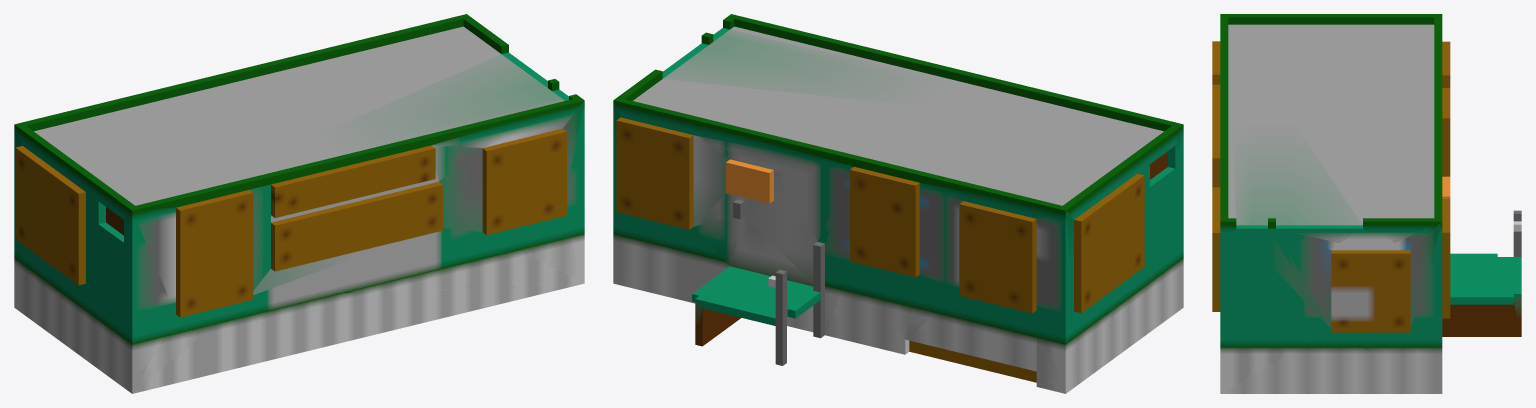
Rendered from obj_house6d.fbx.
3 renders of one model, left to right at view 1: azimuth 30°, elevation 25°; view 2: azimuth 150°, elevation 25°; view 3: azimuth 270°, elevation 25°, orthographic. The views are drawn at different scales.
Parts seen in each view (by area): view 1: obj_house6d; view 2: obj_house6d; view 3: obj_house6d.
Boxes of the visible parts, left/top/right/bottom form: obj_house6d: left=14, top=14, right=584, bottom=393; obj_house6d: left=613, top=14, right=1183, bottom=393; obj_house6d: left=1212, top=14, right=1521, bottom=393.
Size of the model in its own units: 6.4 by 3.9 by 2.4.
1 material, 1 textured.
